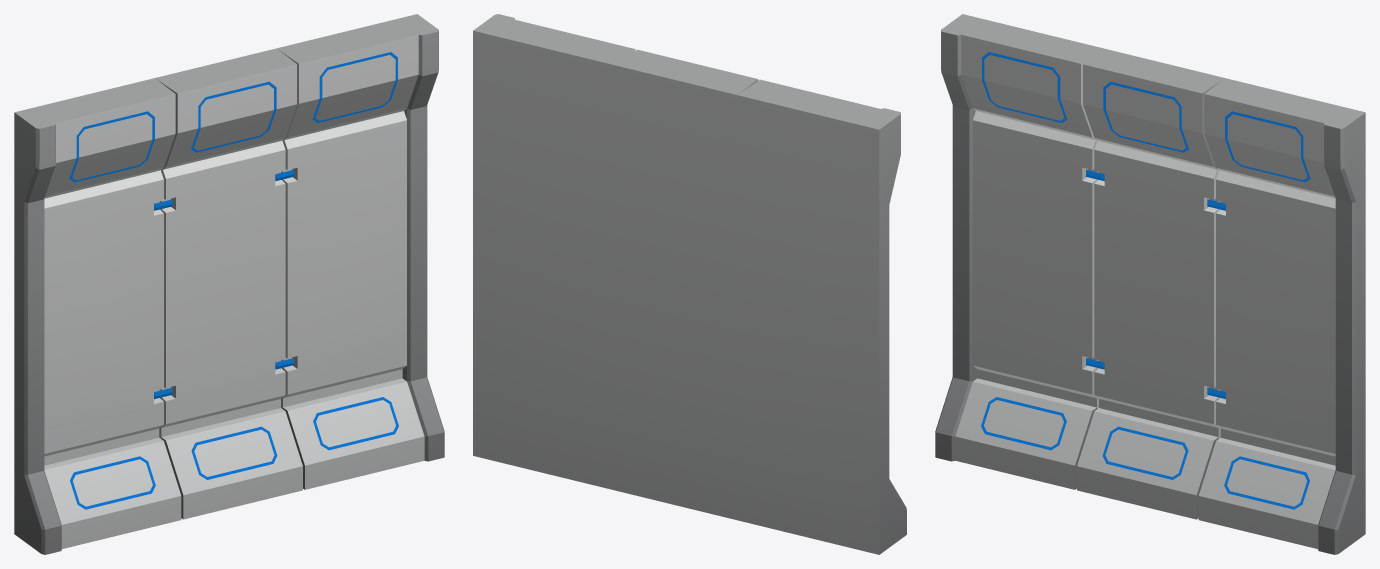
Rendered from wall_end_cap.glb.
3 views of the same model, side by side, from view 1: azimuth 30°, elevation 25°; view 2: azimuth 150°, elevation 25°; view 3: azimuth 330°, elevation 25° (orthographic).
Parts seen in each view (by area): view 1: Wall_type_A_002; view 2: Wall_type_A_002; view 3: Wall_type_A_002.
Part boxes in pixels (left/top/right/bottom): Wall_type_A_002: left=14, top=14, right=444, bottom=554; Wall_type_A_002: left=473, top=14, right=906, bottom=554; Wall_type_A_002: left=935, top=14, right=1365, bottom=554.
Bounding box in the file's own units: 4 × 4 × 0.5.
Materials: 2 (2 with a texture image).
